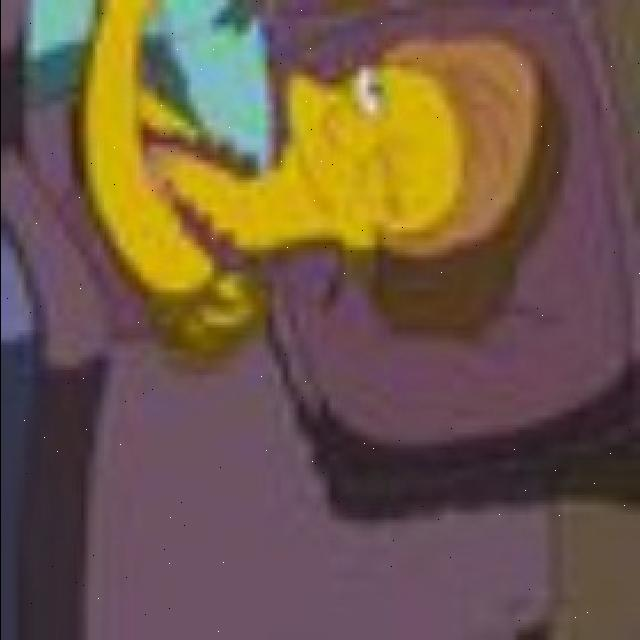Edna Krappel: (255, 32, 566, 334)
